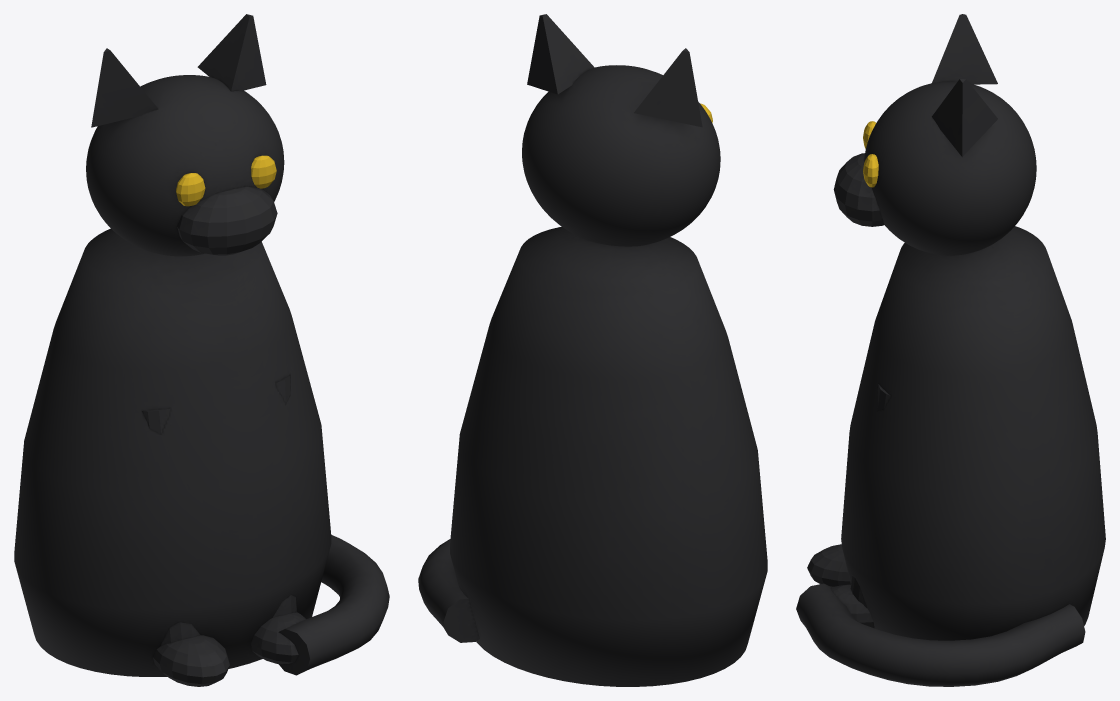
Rendered from black-gloss.glb.
The picture shows the model from 3 angles, left to right: view 1: azimuth 30°, elevation 25°; view 2: azimuth 150°, elevation 25°; view 3: azimuth 270°, elevation 25°; orthographic projection. The views are drawn at different scales.
Parts seen in each view (by area): view 1: ceramic_primary, cat_eyes; view 2: ceramic_primary; view 3: ceramic_primary, cat_eyes.
Boxes of the visible parts, x1=… form: ceramic_primary: x1=14, y1=14, x2=389, y2=686; cat_eyes: x1=176, y1=155, x2=276, y2=206; ceramic_primary: x1=418, y1=14, x2=767, y2=686; ceramic_primary: x1=796, y1=14, x2=1105, y2=686; cat_eyes: x1=863, y1=121, x2=878, y2=187.
Bounding box in the file's own units: 0.1832 × 0.3188 × 0.1591.
Materials: 2 (1 with a texture image).
